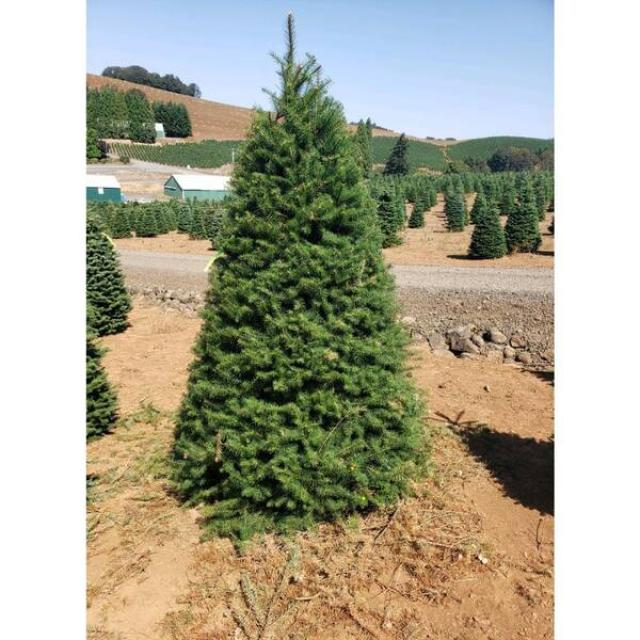Abies: (182, 8, 438, 519)
